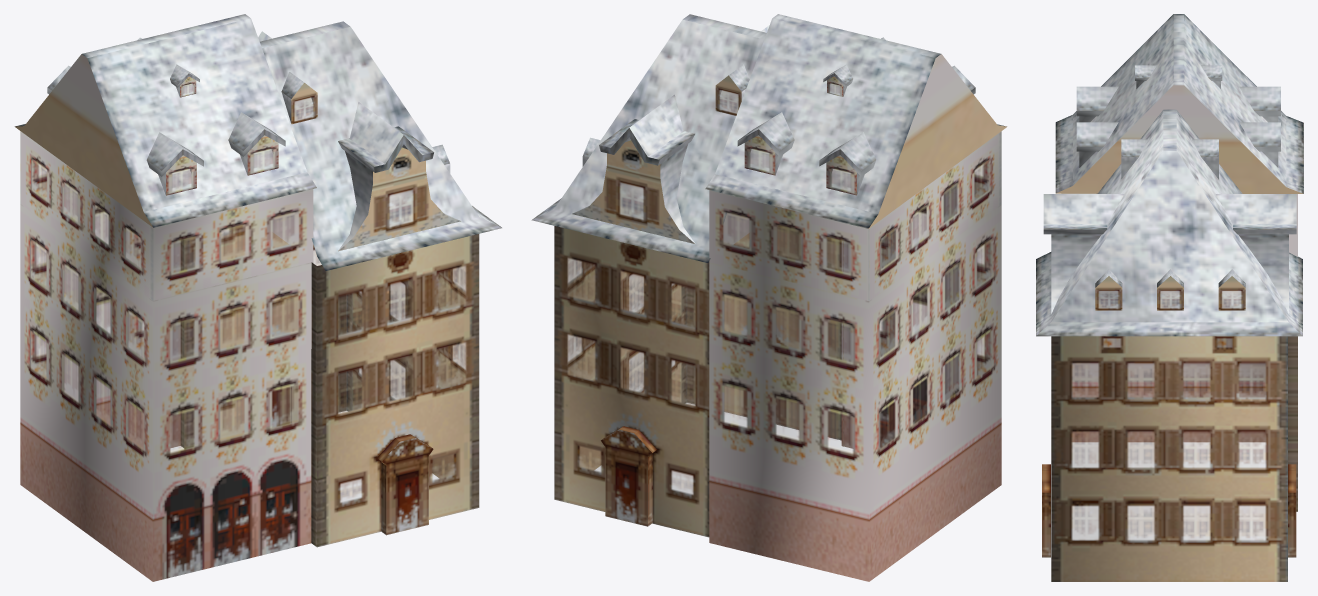
File: Civilian - Residential Building - German Town House 1 - Snow - CBTownHs01_s.glb
3 views of the same model, side by side, from view 1: azimuth 30°, elevation 25°; view 2: azimuth 150°, elevation 25°; view 3: azimuth 270°, elevation 25° (orthographic). The views are drawn at different scales.
Visible parts, largest first — view 1: CBTOWNHS01_S; view 2: CBTOWNHS01_S; view 3: CBTOWNHS01_S.
Boxes of the visible parts, x1,y1,x2,y2 form: CBTOWNHS01_S: [14, 14, 501, 581]; CBTOWNHS01_S: [531, 14, 1007, 581]; CBTOWNHS01_S: [1036, 14, 1303, 581].
Size of the model in its own units: 47.47 by 64.17 by 36.49.
Materials: 1 (1 with a texture image).
